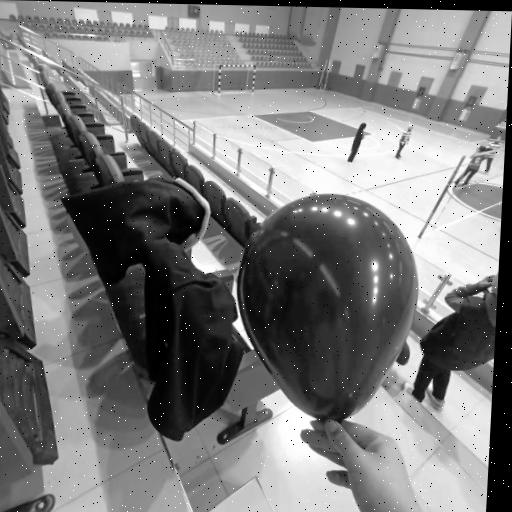balloon: (230, 192, 427, 424)
